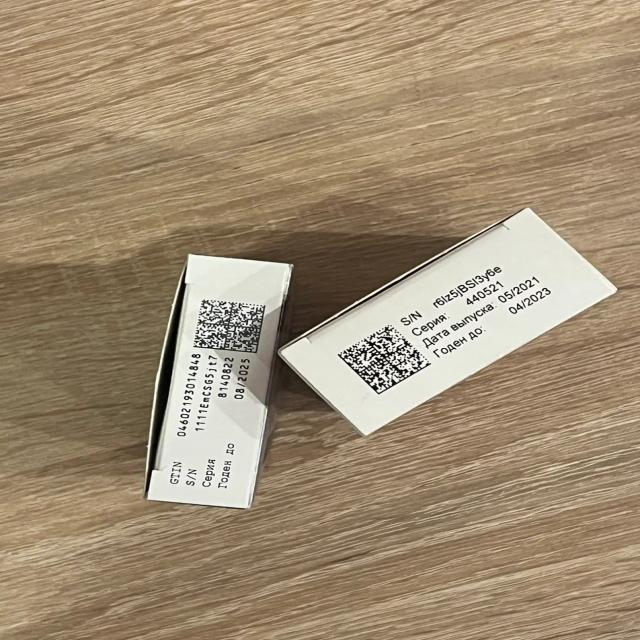datamatrix: (337, 324, 434, 395), (192, 299, 267, 355)
